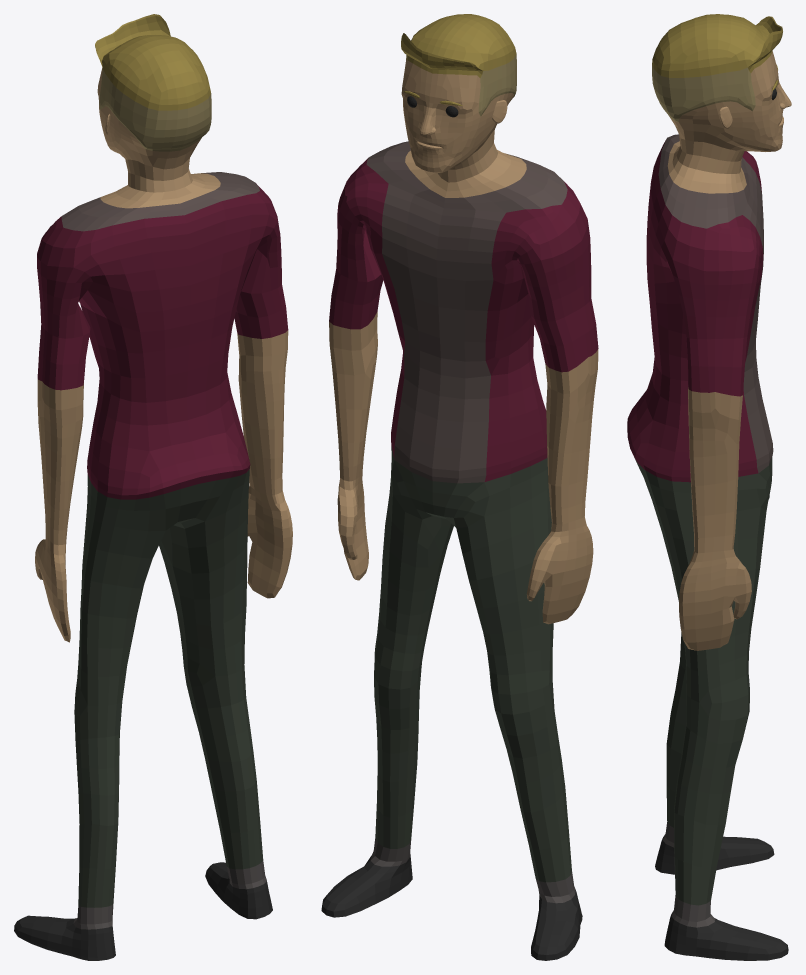
File: Smooth_Male_Shirt.glb
3 views of the same model, side by side, from view 1: azimuth 30°, elevation 25°; view 2: azimuth 150°, elevation 25°; view 3: azimuth 270°, elevation 25° (orthographic).
Visible parts, largest first — view 1: Smooth_Male_Shirt; view 2: Smooth_Male_Shirt; view 3: Smooth_Male_Shirt.
Part boxes in pixels (<box>): Smooth_Male_Shirt: <box>14,14,292,960</box>; Smooth_Male_Shirt: <box>321,14,598,960</box>; Smooth_Male_Shirt: <box>627,14,791,960</box>.
Bounding box in the file's own units: 1.41 × 4.83 × 0.8112.
